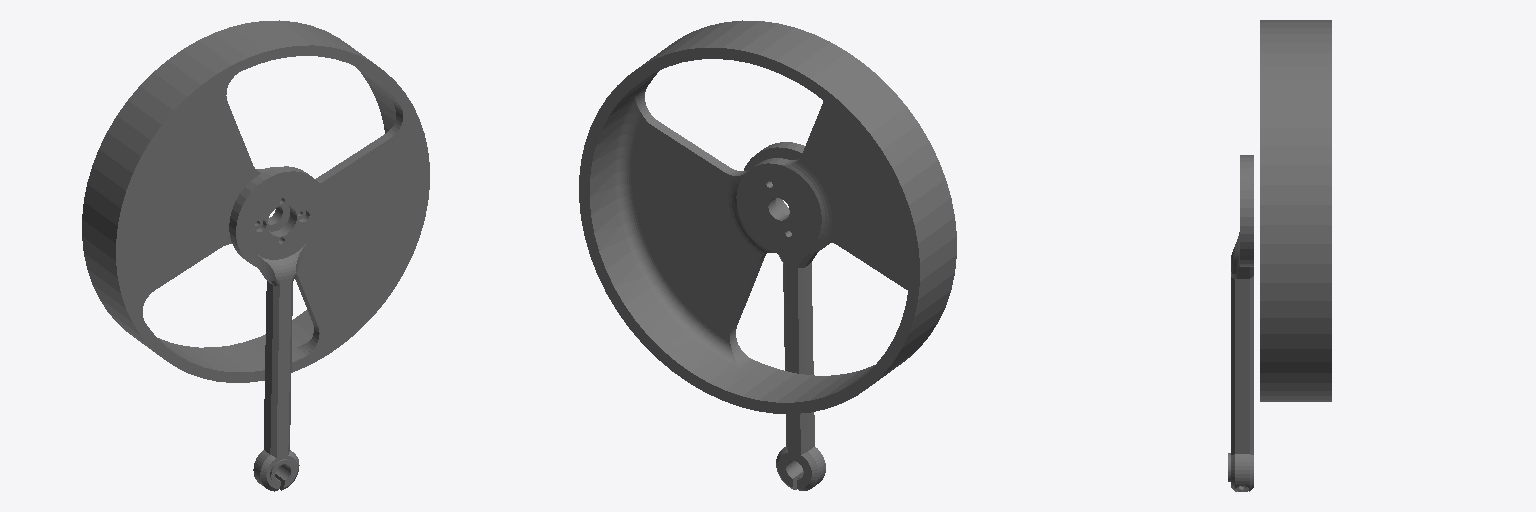
The robot description file, URDF, robot "Robot__31__":
<?xml version="1.0"?>
<robot name="Robot__31__">
    <link name="Robot__31__">
        <inertial>
            <origin rpy="3.141592 3.141593 3.141592" xyz="0.000000 0.000000 0.000000" />
            <inertia izz="0.04166666790843" ixx="0.24166665971279" iyz="0.0" iyy="0.21666666865349" ixy="0.0" ixz="0.0" />
            <mass value="10.0" />
        </inertial>
        <collision>
            <origin rpy="-3.141593 3.141593 -3.141593" xyz="0.000000 0.000000 0.000000" />
            <geometry>
                <sphere radius="0.025000000372529" />
            </geometry>
        </collision>
    </link>
    <link name="pendulum__34__">
        <inertial>
            <origin rpy="3.124769 3.156842 -3.140807" xyz="-0.000928 -0.000758 0.004384" />
            <inertia izz="3.0708521080669e-05" ixx="0.012900001369417" iyz="0.0" iyy="0.012900001369417" ixy="0.0" ixz="0.0" />
            <mass value="0.30000001192093" />
        </inertial>
        <collision>
            <origin rpy="-3.141593 3.141593 -3.141593" xyz="0.000000 0.000000 0.0800000" />
            <geometry>
                <mesh filename="package://march_description/meshes/march9/flywheel_pendulum/flywheel_pendulum__34__.dae" />
            </geometry>
        </collision>
        <visual>
            <origin rpy="-0.019327 3.141506 3.141513" xyz="0.000006 -0.000886 0.0800009" />
            <geometry>
                <mesh filename="package://march_description/meshes/march9/flywheel_pendulum/flywheel_pendulum_visual__35__.dae" />
            </geometry>
            <material name="pendulum_visual__35___material">
                <color rgba="0.500000 0.500000 0.500000 1.0" />
            </material>
        </visual>
    </link>
    <joint type="continuous" name="unactuated_joint__33__">
        <axis xyz="1 0 0" />
        <parent link="Robot__31__" />
        <child link="pendulum__34__" />
        <origin rpy="-3.141592 3.141593 1.570796" xyz="0.00 -0.00 0.00" />
    </joint>
    <link name="flywheel__37__">
        <inertial>
            <origin rpy="2.956070 3.168183 -1.260866" xyz="0.000000 0.000000 -0.000001" />
            <inertia izz="0.00028000000747852" ixx="0.00028000003658235" iyz="0.0" iyy="0.0013999999500811" ixy="0.0" ixz="0.0" />
            <mass value="0.28000000119209" />
        </inertial>
        <collision>
            <origin rpy="-3.141593 3.141593 -3.141593" xyz="0.000000 0.000000 0.080000" />
            <geometry>
                <mesh filename="package://march_description/meshes/march9/flywheel_pendulum/flywheel_flywheel__37__.dae" />
            </geometry>
        </collision>
        <visual>
            <origin rpy="-1.989615 3.141560 3.141538" xyz="-0.000000 -0.000000 -0.00000" />
            <geometry>
                <mesh filename="package://march_description/meshes/march9/flywheel_pendulum/flywheel_flywheel_visual__38__.dae" />
            </geometry>
            <material name="flywheel_visual__38___material">
                <color rgba="0.500000 0.500000 0.500000 1.0" />
            </material>
        </visual>
    </link>
    <joint type="continuous" name="actuated_joint__36__">
        <axis xyz="1 0 0" />
        <parent link="pendulum__34__" />
        <child link="flywheel__37__" />
        <origin rpy="0 0 0" xyz="-0.022934 0.000362 0.1330381" />
    </joint>
</robot>

--- What the picture shows (computed from the rendered views, not written in the file) ---
Views: 3 orthographic renders of the robot side by side, from view 1: azimuth 30°, elevation 25°; view 2: azimuth 150°, elevation 25°; view 3: azimuth 270°, elevation 25°.
Robot: Robot__31__ — 3 links, 2 joints (2 continuous); root link Robot__31__; default pose: every joint at zero.
Links seen in each view (by area): view 1: flywheel__37__, pendulum__34__; view 2: flywheel__37__, pendulum__34__; view 3: flywheel__37__, pendulum__34__.
Boxes of the visible links, left/top/right/bottom form: flywheel__37__: left=82, top=20, right=429, bottom=382; pendulum__34__: left=229, top=166, right=327, bottom=491; flywheel__37__: left=579, top=20, right=956, bottom=413; pendulum__34__: left=744, top=142, right=831, bottom=490; flywheel__37__: left=1260, top=20, right=1331, bottom=401; pendulum__34__: left=1228, top=155, right=1253, bottom=491.
Size in the robot's own frame: 0.1598 by 0.0434 by 0.2096 metres.
2 mesh visuals loaded from 2 distinct referenced files (2 Collada DAE).